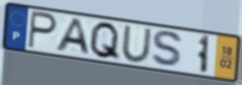1: (197, 34, 212, 77)
A: (53, 17, 92, 57)
P: (26, 9, 59, 51)
Q: (88, 20, 122, 63)
S: (150, 30, 186, 70)
U: (120, 25, 154, 65)
